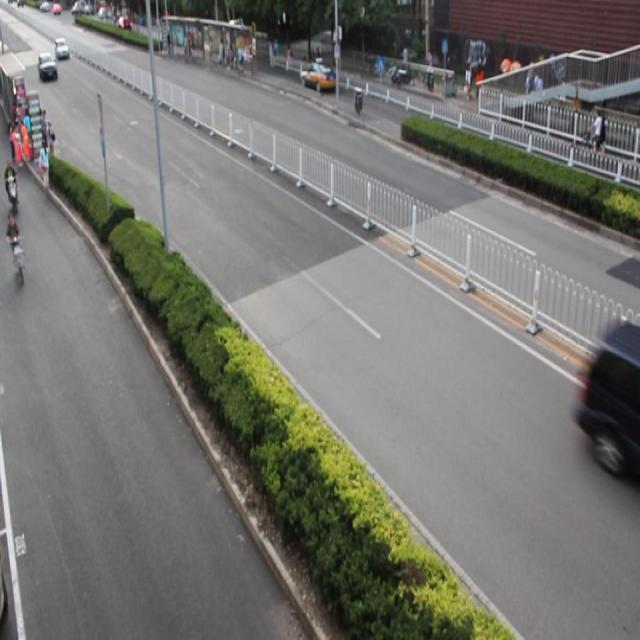car: (300, 60, 336, 94)
